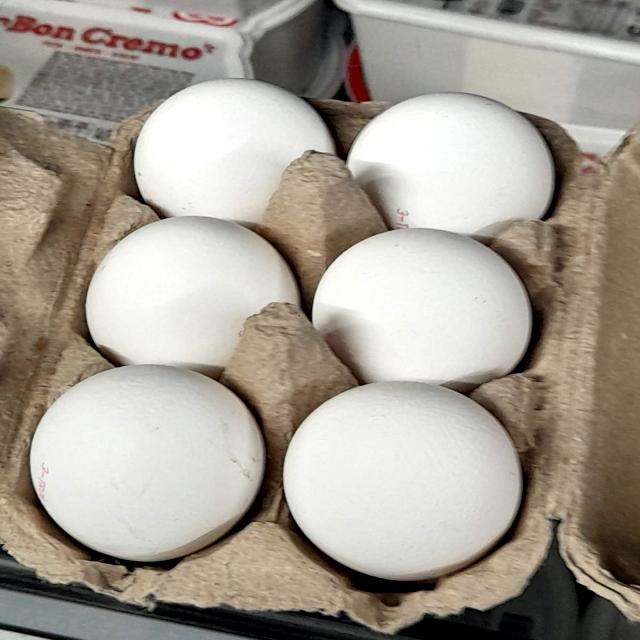egg: (12, 354, 281, 573), (283, 372, 525, 590), (308, 215, 547, 396), (337, 66, 579, 234), (72, 204, 315, 365), (118, 60, 342, 219)
